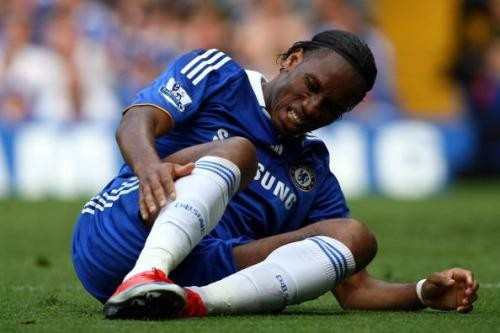falling: (53, 15, 494, 325)
